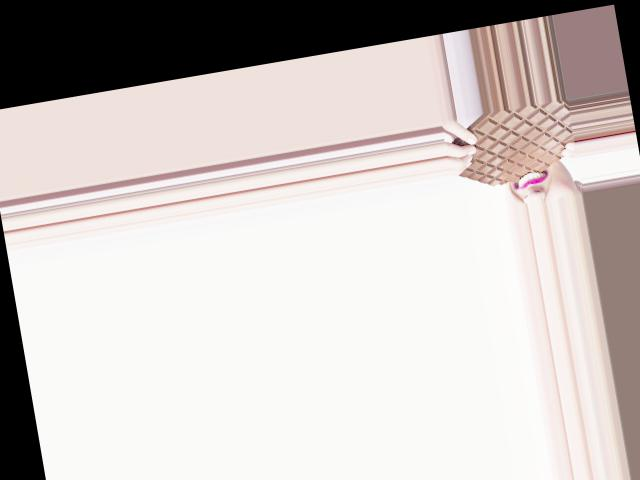chocolate: (440, 99, 579, 196)
